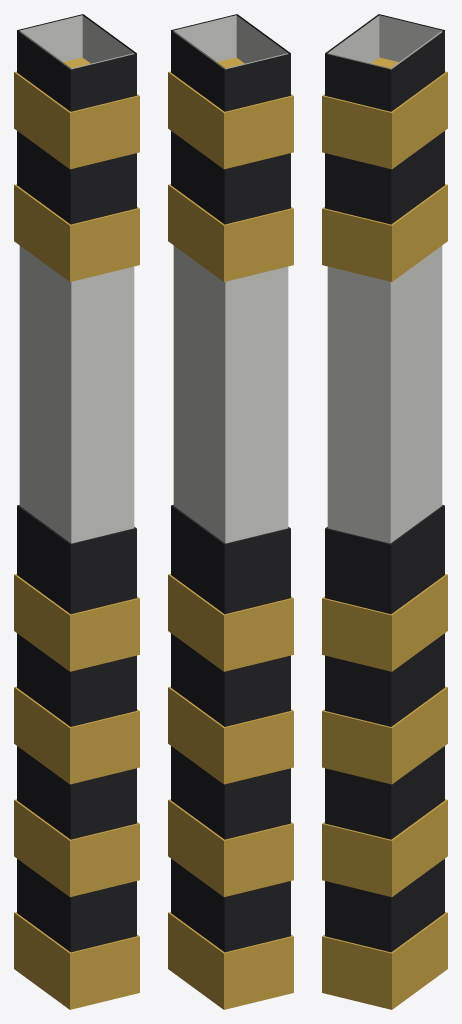
The model's file is section-14.obj.
3 views of the same model, side by side, from view 1: azimuth 30°, elevation 25°; view 2: azimuth 210°, elevation 25°; view 3: azimuth 330°, elevation 25° (orthographic).
Size of the model in its own units: 0.078 by 1 by 0.108.
1 material, 1 textured.
